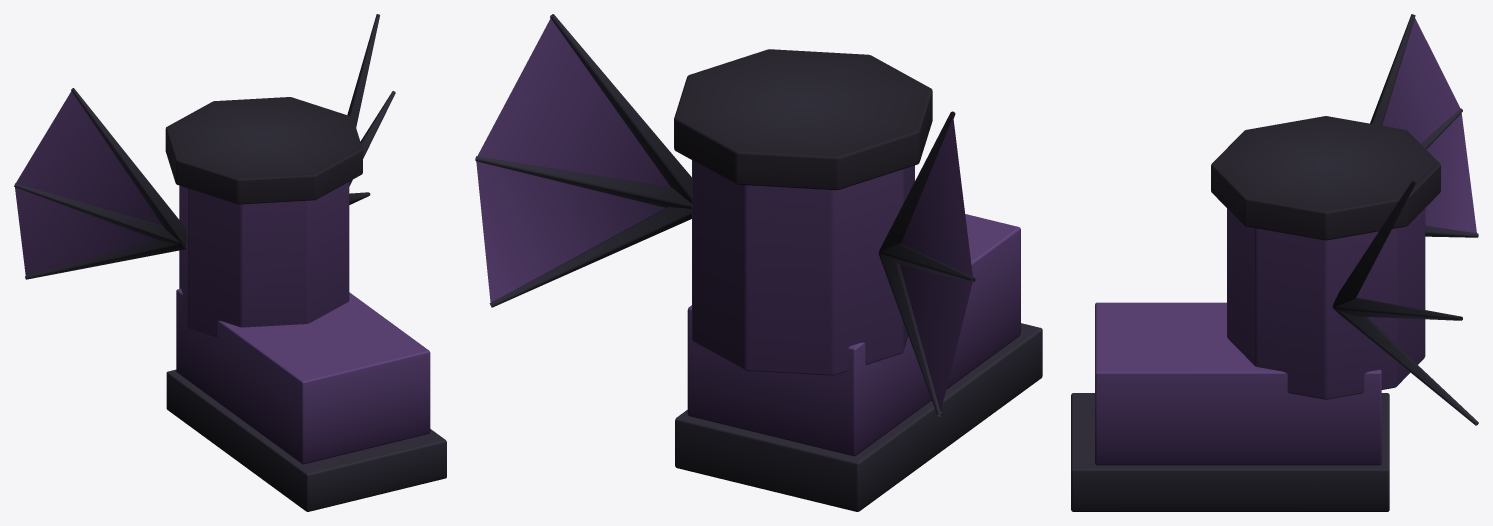
The model's file is lg_vesper_stalkers.glb.
The picture shows the model from 3 angles, left to right: view 1: azimuth 30°, elevation 25°; view 2: azimuth 150°, elevation 25°; view 3: azimuth 270°, elevation 25°; orthographic projection. The views are drawn at different scales.
Visible parts, largest first — view 1: lg_vesper_stalkers; view 2: lg_vesper_stalkers; view 3: lg_vesper_stalkers.
Boxes of the visible parts, x1,y1,x2,y2 form: lg_vesper_stalkers: (14, 14, 446, 511); lg_vesper_stalkers: (475, 14, 1042, 511); lg_vesper_stalkers: (1071, 14, 1478, 511).
Bounding box in the file's own units: 1.25 × 1.04 × 1.02.
